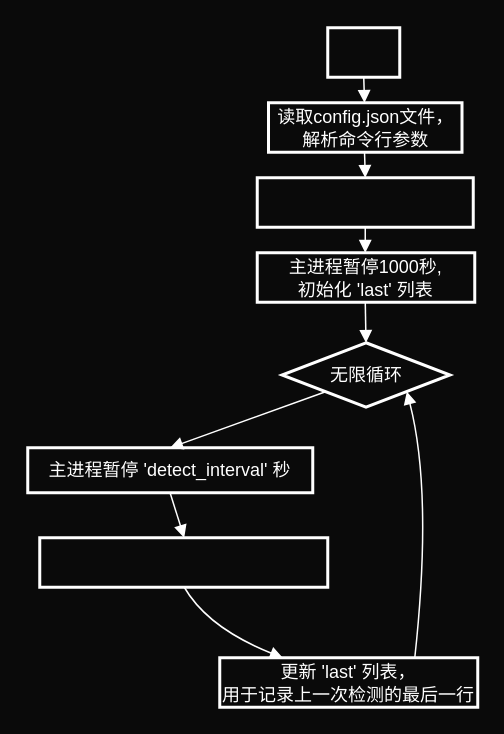
Image size: 504x734. Some labels were removed from this diagram. Here are the shapes that lost their labels. From the top down, the centre of each, then its label:
At (x=363, y=52): "开始".
At (x=364, y=202): "启动数据收集模块 (使用top_snoop.py)".
At (x=183, y=562): "执行异常检测(使用detect函数) 并记录结果（record函数）".
